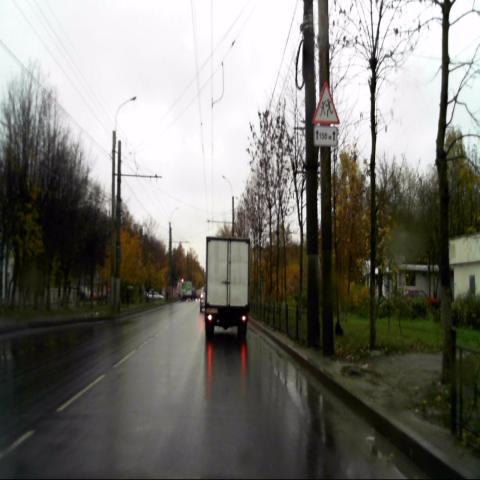1_23: (312, 80, 340, 124)
